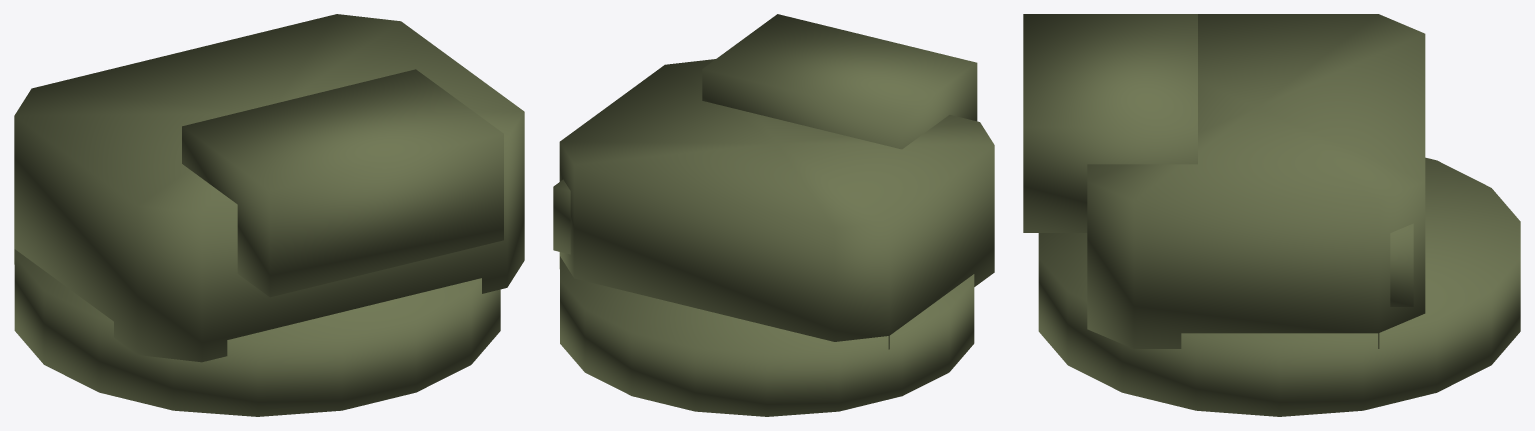
File: apc_turret.obj
3 renders of one model, left to right at view 1: azimuth 30°, elevation 25°; view 2: azimuth 150°, elevation 25°; view 3: azimuth 270°, elevation 25°, orthographic. The views are drawn at different scales.
Parts seen in each view (by area): view 1: apc_turret; view 2: apc_turret; view 3: apc_turret.
Boxes of the visible parts, left/top/right/bottom form: apc_turret: left=14, top=14, right=524, bottom=416; apc_turret: left=553, top=14, right=994, bottom=416; apc_turret: left=1023, top=14, right=1520, bottom=416.
Size of the model in its own units: 0.84 by 0.46 by 0.8536.
